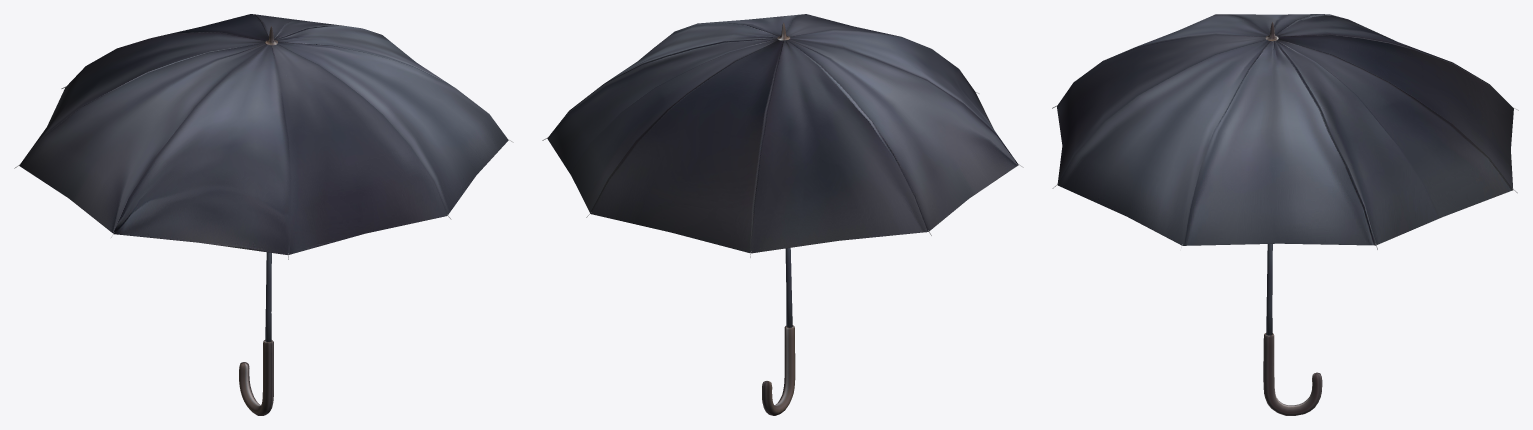
File: Umbrella1.dae
3 renders of one model, left to right at view 1: azimuth 30°, elevation 25°; view 2: azimuth 150°, elevation 25°; view 3: azimuth 270°, elevation 25°, orthographic. The views are drawn at different scales.
Visible parts, largest first — view 1: Plane, Plane.004, Plane.003; view 2: Plane, Plane.004, Plane.003; view 3: Plane, Plane.004, Plane.003.
Part boxes in pixels (box(x1,y1,x2,y2)): Plane: box(19, 14, 508, 254); Plane.004: box(239, 340, 273, 415); Plane.003: box(265, 252, 271, 342); Plane: box(547, 14, 1018, 253); Plane.004: box(762, 325, 795, 415); Plane.003: box(785, 248, 792, 327); Plane: box(1057, 14, 1513, 245); Plane.004: box(1263, 333, 1322, 415); Plane.003: box(1266, 244, 1272, 335).
Size of the model in its own units: 4.87 by 4.87 by 4.56.
